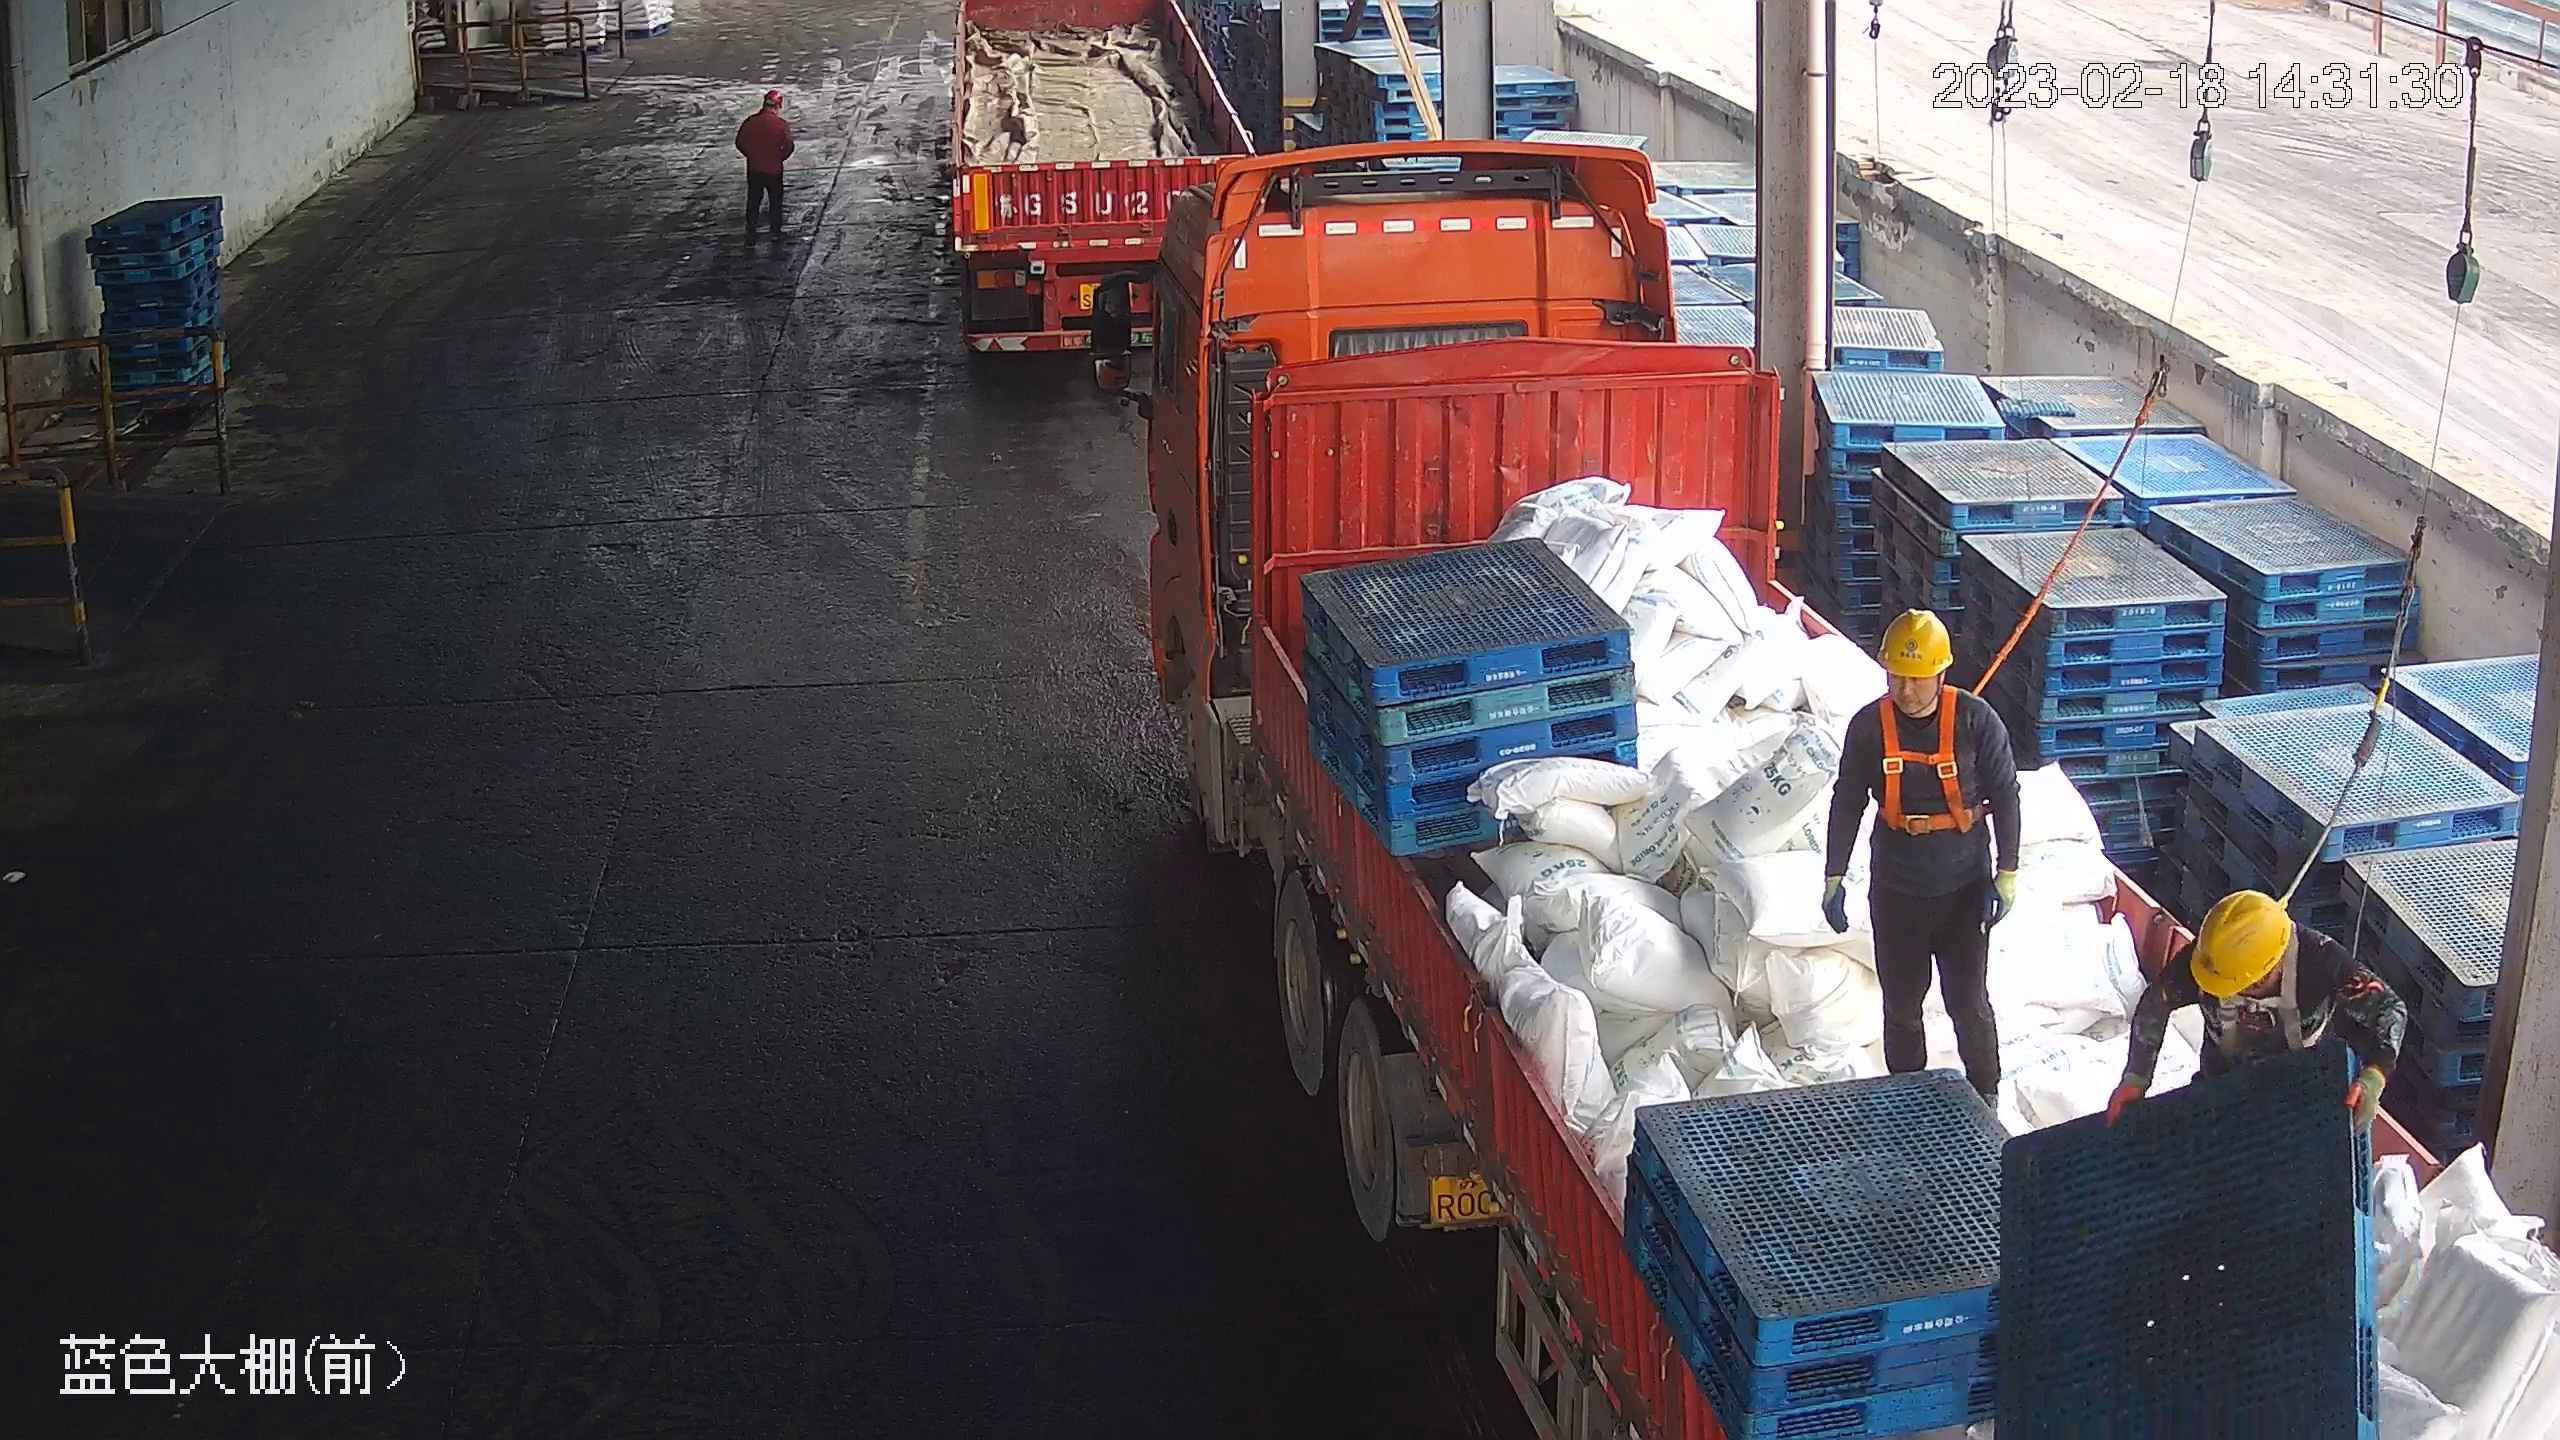belt: (1869, 679, 1986, 834), (2222, 914, 2340, 1050)
head: (1842, 603, 2012, 764), (2174, 883, 2358, 1028), (747, 81, 792, 131)
helmet: (2190, 886, 2290, 994), (1876, 605, 1953, 677), (761, 82, 785, 100)
people: (1821, 609, 2026, 1103), (2098, 887, 2397, 1176), (733, 77, 800, 241)
truck: (1089, 136, 2533, 1440), (936, 3, 1268, 367)
